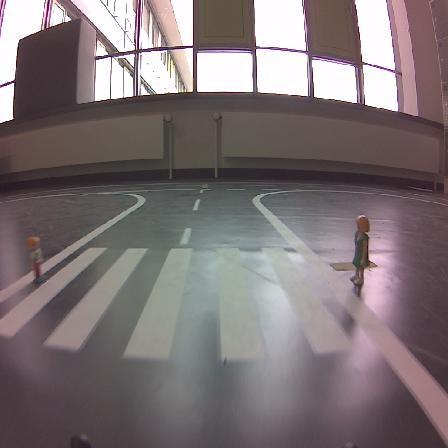CHILD: (27, 237, 43, 283)
PERSON: (351, 215, 369, 285)
